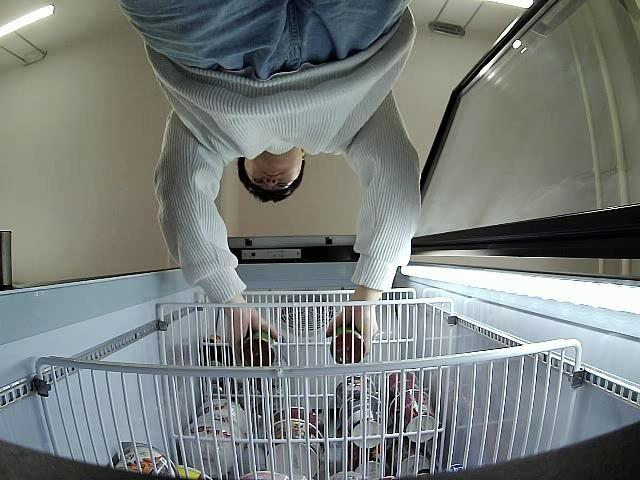19_17cha: (241, 332, 278, 369), (330, 326, 365, 364)
